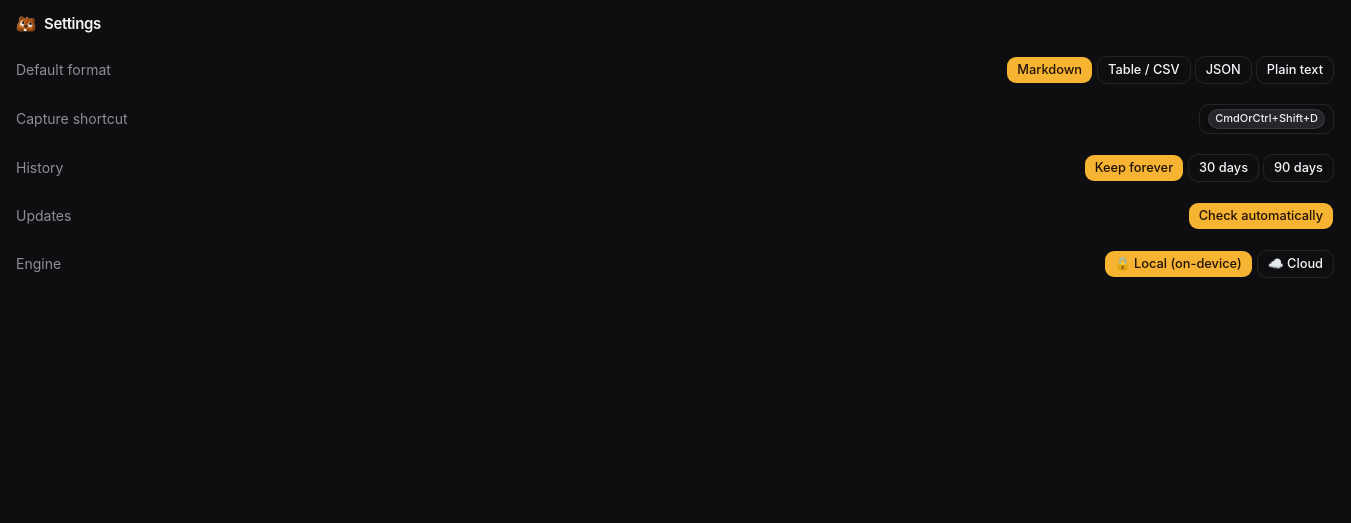
Test case: SettingsPanel › a provider preset prefills the base URL and model
This screenshot has width=1351, height=523.
Click the button "☁️ Cloud" at x=1295, y=264, box [1257,250,1334,278]
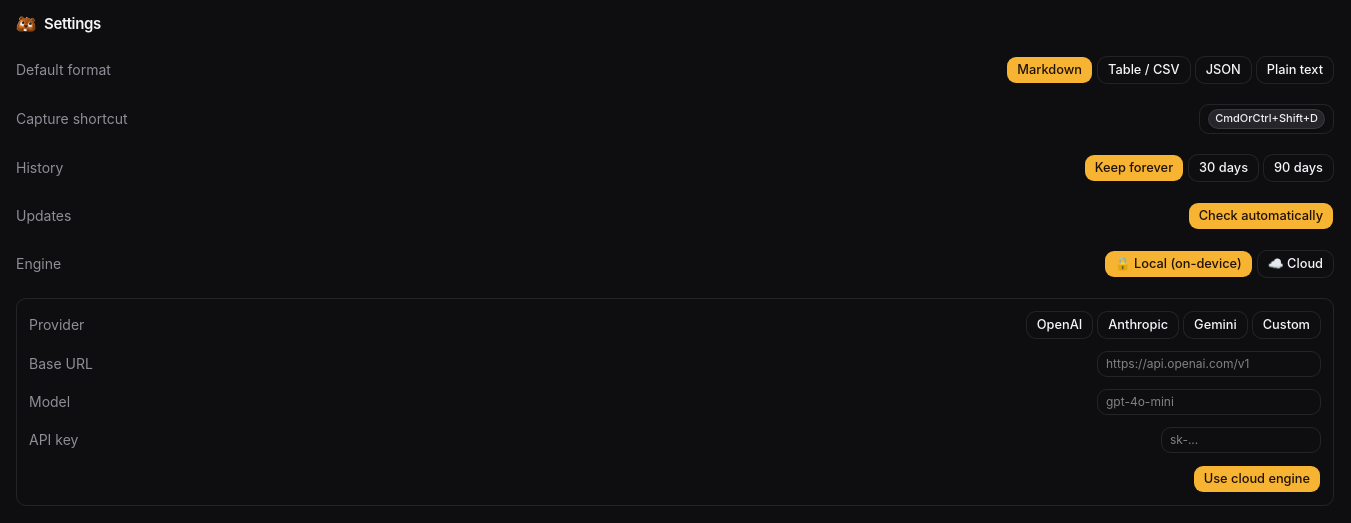
Click the button "Anthropic" at x=1138, y=324, box [1097,310,1179,338]
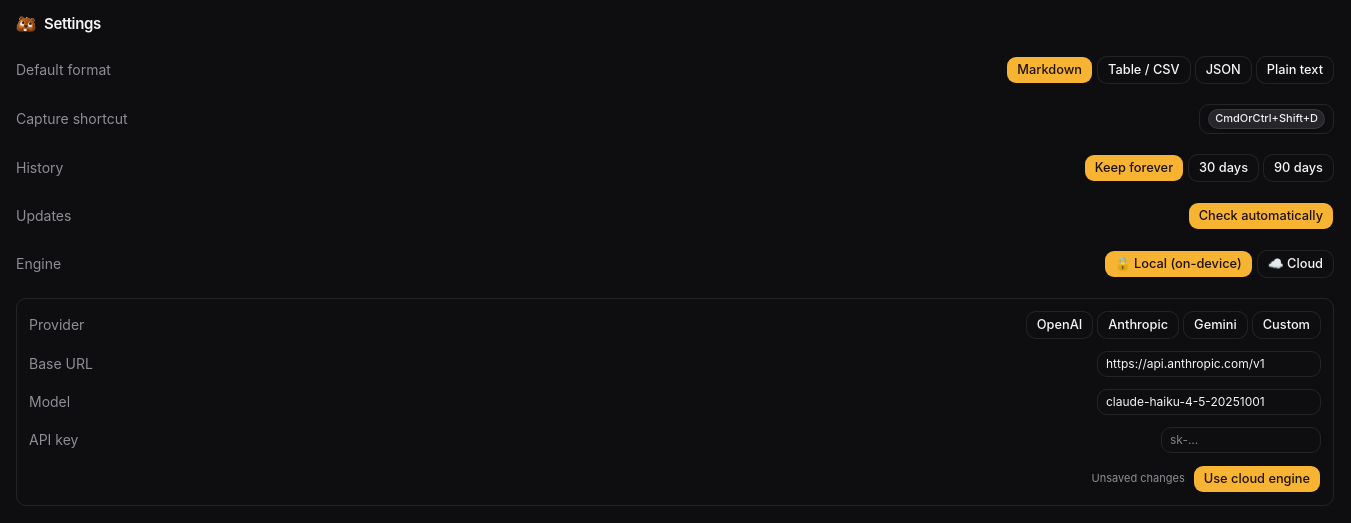
Check: the field named "Base URL" holds "https://api.anthropic.com/v1", box [1097,350,1321,376]
Check: the field named "Model" holds "claude-haiku-4-5-20251001", box [1097,388,1321,414]
